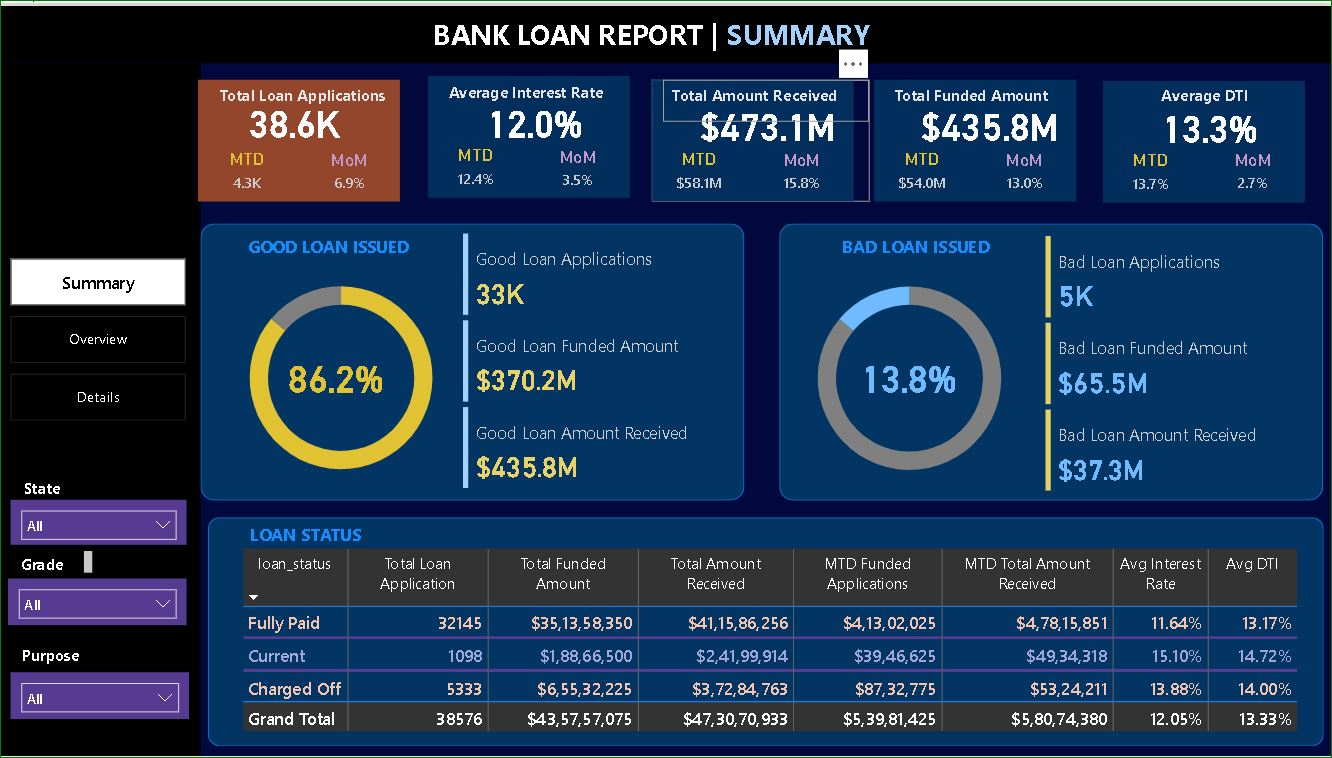

The dashboard page shown, as its layout file describes it:
{"tool":"powerbi","page":{"name":"Summary","canvas":[1280,720],"ordinal":0},"visuals":[{"type":"shape","box":[0,55.5,194.2,664.5],"z":0},{"type":"shape","box":[412.3,67.1,193.7,117],"z":0,"group":"g5"},{"type":"shape","box":[840.1,70.7,193.7,117],"z":0,"group":"g3"},{"type":"shape","box":[626.7,71.3,193.7,117],"z":0,"group":"g4"},{"type":"shape","box":[192.3,71.4,193.7,117],"z":0,"group":"g1"},{"type":"shape","box":[1059.7,71.9,193.7,117],"z":0,"group":"g6"},{"type":"card","fields":{"Values":["bank_loan_data.Total Loan Application"]},"box":[228.8,76.7,113.6,69.9],"z":1000,"group":"g1"},{"type":"card","fields":{"Values":["bank_loan_data.Avg Interest Rate"]},"box":[441.2,78.3,147.9,64.6],"z":1000,"group":"g5"},{"type":"card","fields":{"Values":["bank_loan_data.Total Funded Amount"]},"box":[877,81.4,147.9,64.6],"z":1000,"group":"g3"},{"type":"card","fields":{"Values":["bank_loan_data.Total Amount Received"]},"box":[663.6,82,147.9,64.6],"z":1000,"group":"g4"},{"type":"card","fields":{"Values":["bank_loan_data.Avg DTI"]},"box":[1088.6,83.1,147.9,64.6],"z":1000,"group":"g6"},{"type":"shape","box":[201.4,489.6,1069.7,219.5],"z":1000},{"type":"shape","box":[0,0,1280.3,55],"z":2000},{"type":"textbox","box":[423,67.1,197.8,40.3],"z":2000,"group":"g5"},{"type":"textbox","box":[850.8,70.7,197.8,40.3],"z":2000,"group":"g3"},{"type":"textbox","box":[204.7,71.3,197.8,40.3],"z":2000,"group":"g1"},{"type":"textbox","box":[637.4,71.3,197.8,40.3],"z":2000,"group":"g4"},{"type":"textbox","box":[1070.1,71.3,169.4,40.3],"z":2000,"group":"g6"},{"type":"textbox","box":[204.4,213.8,248.8,37.7],"z":2000,"group":"g7"},{"type":"textbox","box":[12.1,447.4,95.3,31.4],"z":2000,"group":"g9"},{"type":"textbox","box":[207.4,489.6,248.8,37.7],"z":2000,"group":"g8"},{"type":"card","title":"MTD","fields":{"Values":["bank_loan_data.MTD Average Interest Rate"]},"box":[423,133,69.5,51.1],"z":3000,"group":"g5"},{"type":"card","title":"MTD","fields":{"Values":["bank_loan_data.MTD Funded Applications"]},"box":[850.8,136.6,69.5,51.1],"z":3000,"group":"g3"},{"type":"card","title":"MTD","fields":{"Values":["bank_loan_data.MTD Loan Applications"]},"box":[204.7,137.2,69.5,51.1],"z":3000,"group":"g1"},{"type":"card","title":"MTD","fields":{"Values":["bank_loan_data.MTD Total Amount Received"]},"box":[637.4,137.2,69.5,51.1],"z":3000,"group":"g4"},{"type":"card","title":"MTD","fields":{"Values":["bank_loan_data.MTD Average DTI"]},"box":[1070.4,137.8,69.5,51.1],"z":3000,"group":"g6"},{"type":"textbox","box":[12.1,517.4,83.2,31.4],"z":3000},{"type":"group","id":"g1","title":"Group 2","box":[192.3,71.3,210.2,117.1],"z":3005,"group":"g2"},{"type":"card","title":"MoM","fields":{"Values":["bank_loan_data.MoM Average Interest Rate"]},"box":[521.2,134,69.5,49.8],"z":4000,"group":"g5"},{"type":"card","title":"MoM","fields":{"Values":["bank_loan_data.MoM Total Funded Amount"]},"box":[949,137.6,69.5,49.8],"z":4000,"group":"g3"},{"type":"card","title":"MoM","fields":{"Values":["bank_loan_data.MoM Loan Applications"]},"box":[303,138.2,69.5,49.8],"z":4000,"group":"g1"},{"type":"card","title":"MoM","fields":{"Values":["bank_loan_data.MoM Total Amount Received"]},"box":[735.6,138.2,69.5,49.8],"z":4000,"group":"g4"},{"type":"card","title":"MoM","fields":{"Values":["bank_loan_data.MoM Average DTI"]},"box":[1168.6,138.9,69.5,49.8],"z":4000,"group":"g6"},{"type":"textbox","box":[9.6,607.8,117,31.4],"z":4000},{"type":"shape","box":[748.6,208.6,521.4,265.7],"z":5000},{"type":"shape","box":[194.3,208.6,521.4,265.7],"z":6000},{"type":"textbox","box":[784,213.8,203.1,37.7],"z":7000},{"type":"card","fields":{"Values":["bank_loan_data.Good Loan %"]},"box":[262.2,322.8,123.7,64.6],"z":8000},{"type":"textbox","box":[412.9,4,520.4,45.7],"z":9000},{"type":"group","id":"g2","title":"Group 1","box":[192.3,71.3,210.2,117.1],"z":10000},{"type":"group","id":"g3","title":"Group 2","box":[840.1,70.7,208.5,117.5],"z":11000},{"type":"group","id":"g4","title":"Group 2","box":[626.7,71.3,208.4,117],"z":12000},{"type":"group","id":"g5","title":"Group 2","box":[412.3,67.1,207.3,117.5],"z":13000},{"type":"group","id":"g6","title":"Group 2","box":[1059.7,71.3,193.7,117],"z":14000},{"type":"donutChart","fields":{"Category":["bank_loan_data.Good Vs Bad Loan"],"Y":["bank_loan_data.Total Loan Application"]},"box":[203.8,242.4,250.9,229.1],"z":15000},{"type":"group","id":"g7","title":"Group 2","box":[204.4,213.8,248.8,37.7],"z":16000},{"type":"cardVisual","fields":{"Data":["bank_loan_data.Good Loan Applications","bank_loan_data.Good Loan Funded Amount","bank_loan_data.Good Loan Amount Received"]},"box":[441.1,213.8,266.3,256.9],"z":17000},{"type":"donutChart","fields":{"Category":["bank_loan_data.Good Vs Bad Loan"],"Y":["bank_loan_data.Total Loan Application"]},"box":[749.1,242.1,250.1,230],"z":18000},{"type":"card","fields":{"Values":["bank_loan_data.Bad Loan %"]},"box":[810.9,322.8,125.1,64.6],"z":19000},{"type":"cardVisual","fields":{"Data":["bank_loan_data.Bad Loan Applications","bank_loan_data.Bad Loan Funded Amount","bank_loan_data.Bad Loan Amount Received"]},"box":[999.2,215.2,266.3,256.9],"z":20000},{"type":"tableEx","fields":{"Values":["bank_loan_data.loan_status","bank_loan_data.Total Loan Application","bank_loan_data.Total Funded Amount","bank_loan_data.Total Amount Received","bank_loan_data.MTD Funded Applications","bank_loan_data.MTD Total Amount Received","bank_loan_data.Avg Interest Rate","bank_loan_data.Avg DTI"]},"box":[229.1,515,1025.1,194.2],"z":21000},{"type":"group","id":"g8","title":"Group 2","box":[207.4,489.6,248.4,37.4],"z":22000},{"type":"slicer","fields":{"Values":["bank_loan_data.address_state"]},"box":[12.1,474,168.8,43.4],"z":23000},{"type":"slicer","fields":{"Values":["bank_loan_data.grade"]},"box":[9.6,548.7,171.3,44.6],"z":24000},{"type":"slicer","fields":{"Values":["bank_loan_data.purpose"]},"box":[12.1,639.2,171.3,44.6],"z":25000},{"type":"group","id":"g9","title":"Group 2","box":[12.1,447.4,95.3,31.4],"z":26000},{"type":"pageNavigator","box":[12.1,242.4,168.8,158],"z":27000}]}

Visuals, with their boxes in screenshot pixels (x1, y1, x2, y2), scaled from the page's 1280x720 canvas onto the 1332x758 screenshot:
shape: Rect(0, 58, 202, 757)
shape: Rect(429, 71, 631, 194)
shape: Rect(874, 74, 1076, 198)
shape: Rect(652, 75, 854, 198)
shape: Rect(200, 75, 402, 198)
shape: Rect(1103, 76, 1304, 199)
card - bank_loan_data.Total Loan Application: Rect(238, 81, 356, 154)
card - bank_loan_data.Avg Interest Rate: Rect(459, 82, 613, 150)
card - bank_loan_data.Total Funded Amount: Rect(913, 86, 1067, 154)
card - bank_loan_data.Total Amount Received: Rect(691, 86, 844, 154)
card - bank_loan_data.Avg DTI: Rect(1133, 87, 1287, 155)
shape: Rect(210, 515, 1323, 747)
shape: Rect(0, 0, 1331, 58)
textbox: Rect(440, 71, 646, 113)
textbox: Rect(885, 74, 1091, 117)
textbox: Rect(213, 75, 419, 117)
textbox: Rect(663, 75, 869, 117)
textbox: Rect(1114, 75, 1290, 117)
textbox: Rect(213, 225, 472, 265)
textbox: Rect(13, 471, 112, 504)
textbox: Rect(216, 515, 475, 555)
"MTD" card: Rect(440, 140, 513, 194)
"MTD" card: Rect(885, 144, 958, 198)
"MTD" card: Rect(213, 144, 285, 198)
"MTD" card: Rect(663, 144, 736, 198)
"MTD" card: Rect(1114, 145, 1186, 199)
textbox: Rect(13, 545, 99, 578)
"Group 2" group: Rect(200, 75, 419, 198)
"MoM" card: Rect(542, 141, 615, 194)
"MoM" card: Rect(988, 145, 1060, 197)
"MoM" card: Rect(315, 145, 388, 198)
"MoM" card: Rect(765, 145, 838, 198)
"MoM" card: Rect(1216, 146, 1288, 199)
textbox: Rect(10, 640, 132, 673)
shape: Rect(779, 220, 1322, 499)
shape: Rect(202, 220, 745, 499)
textbox: Rect(816, 225, 1027, 265)
card - bank_loan_data.Good Loan %: Rect(273, 340, 402, 408)
textbox: Rect(430, 4, 971, 52)
"Group 1" group: Rect(200, 75, 419, 198)
"Group 2" group: Rect(874, 74, 1091, 198)
"Group 2" group: Rect(652, 75, 869, 198)
"Group 2" group: Rect(429, 71, 645, 194)
"Group 2" group: Rect(1103, 75, 1304, 198)
donutChart - bank_loan_data.Good Vs Bad Loan x bank_loan_data.Total Loan Application: Rect(212, 255, 473, 496)
"Group 2" group: Rect(213, 225, 472, 265)
cardVisual - bank_loan_data.Good Loan Applications x bank_loan_data.Good Loan Funded Amount: Rect(459, 225, 736, 496)
donutChart - bank_loan_data.Good Vs Bad Loan x bank_loan_data.Total Loan Application: Rect(780, 255, 1040, 497)
card - bank_loan_data.Bad Loan %: Rect(844, 340, 974, 408)
cardVisual - bank_loan_data.Bad Loan Applications x bank_loan_data.Bad Loan Funded Amount: Rect(1040, 227, 1317, 497)
tableEx - bank_loan_data.loan_status x bank_loan_data.Total Loan Application: Rect(238, 542, 1305, 747)
"Group 2" group: Rect(216, 515, 474, 555)
slicer - bank_loan_data.address_state: Rect(13, 499, 188, 545)
slicer - bank_loan_data.grade: Rect(10, 578, 188, 625)
slicer - bank_loan_data.purpose: Rect(13, 673, 191, 720)
"Group 2" group: Rect(13, 471, 112, 504)
pageNavigator: Rect(13, 255, 188, 422)
